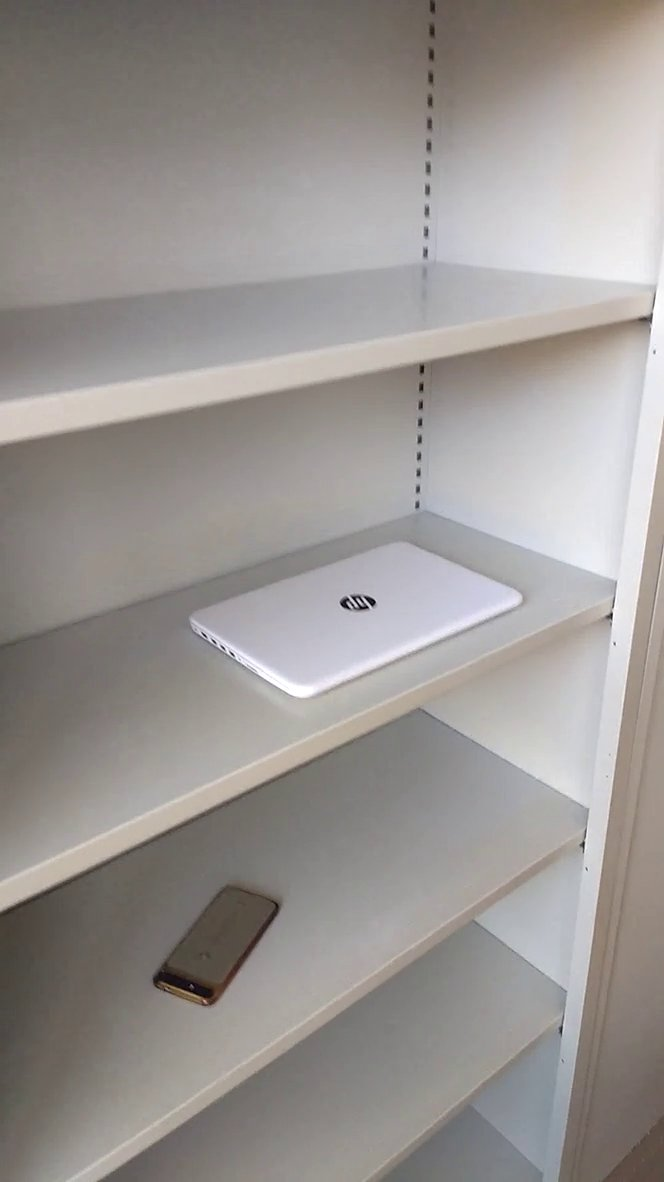laptop: (181, 533, 534, 713)
phone: (147, 875, 296, 1013)
